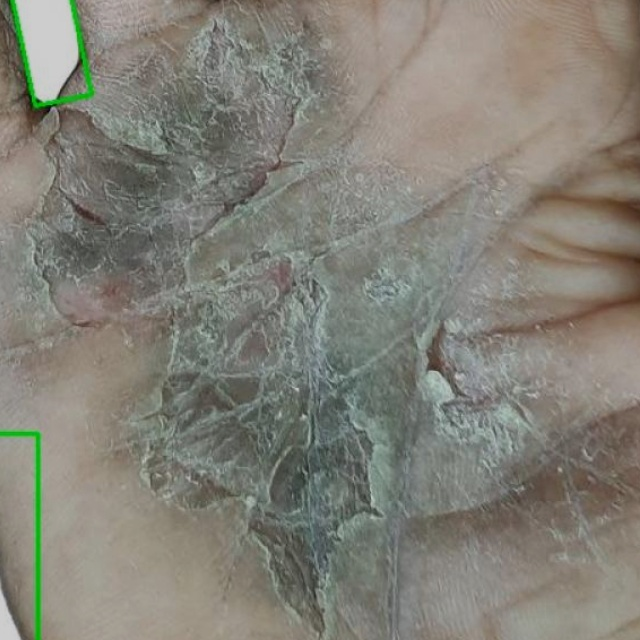Contact Dermatitis: (12, 0, 91, 105)
